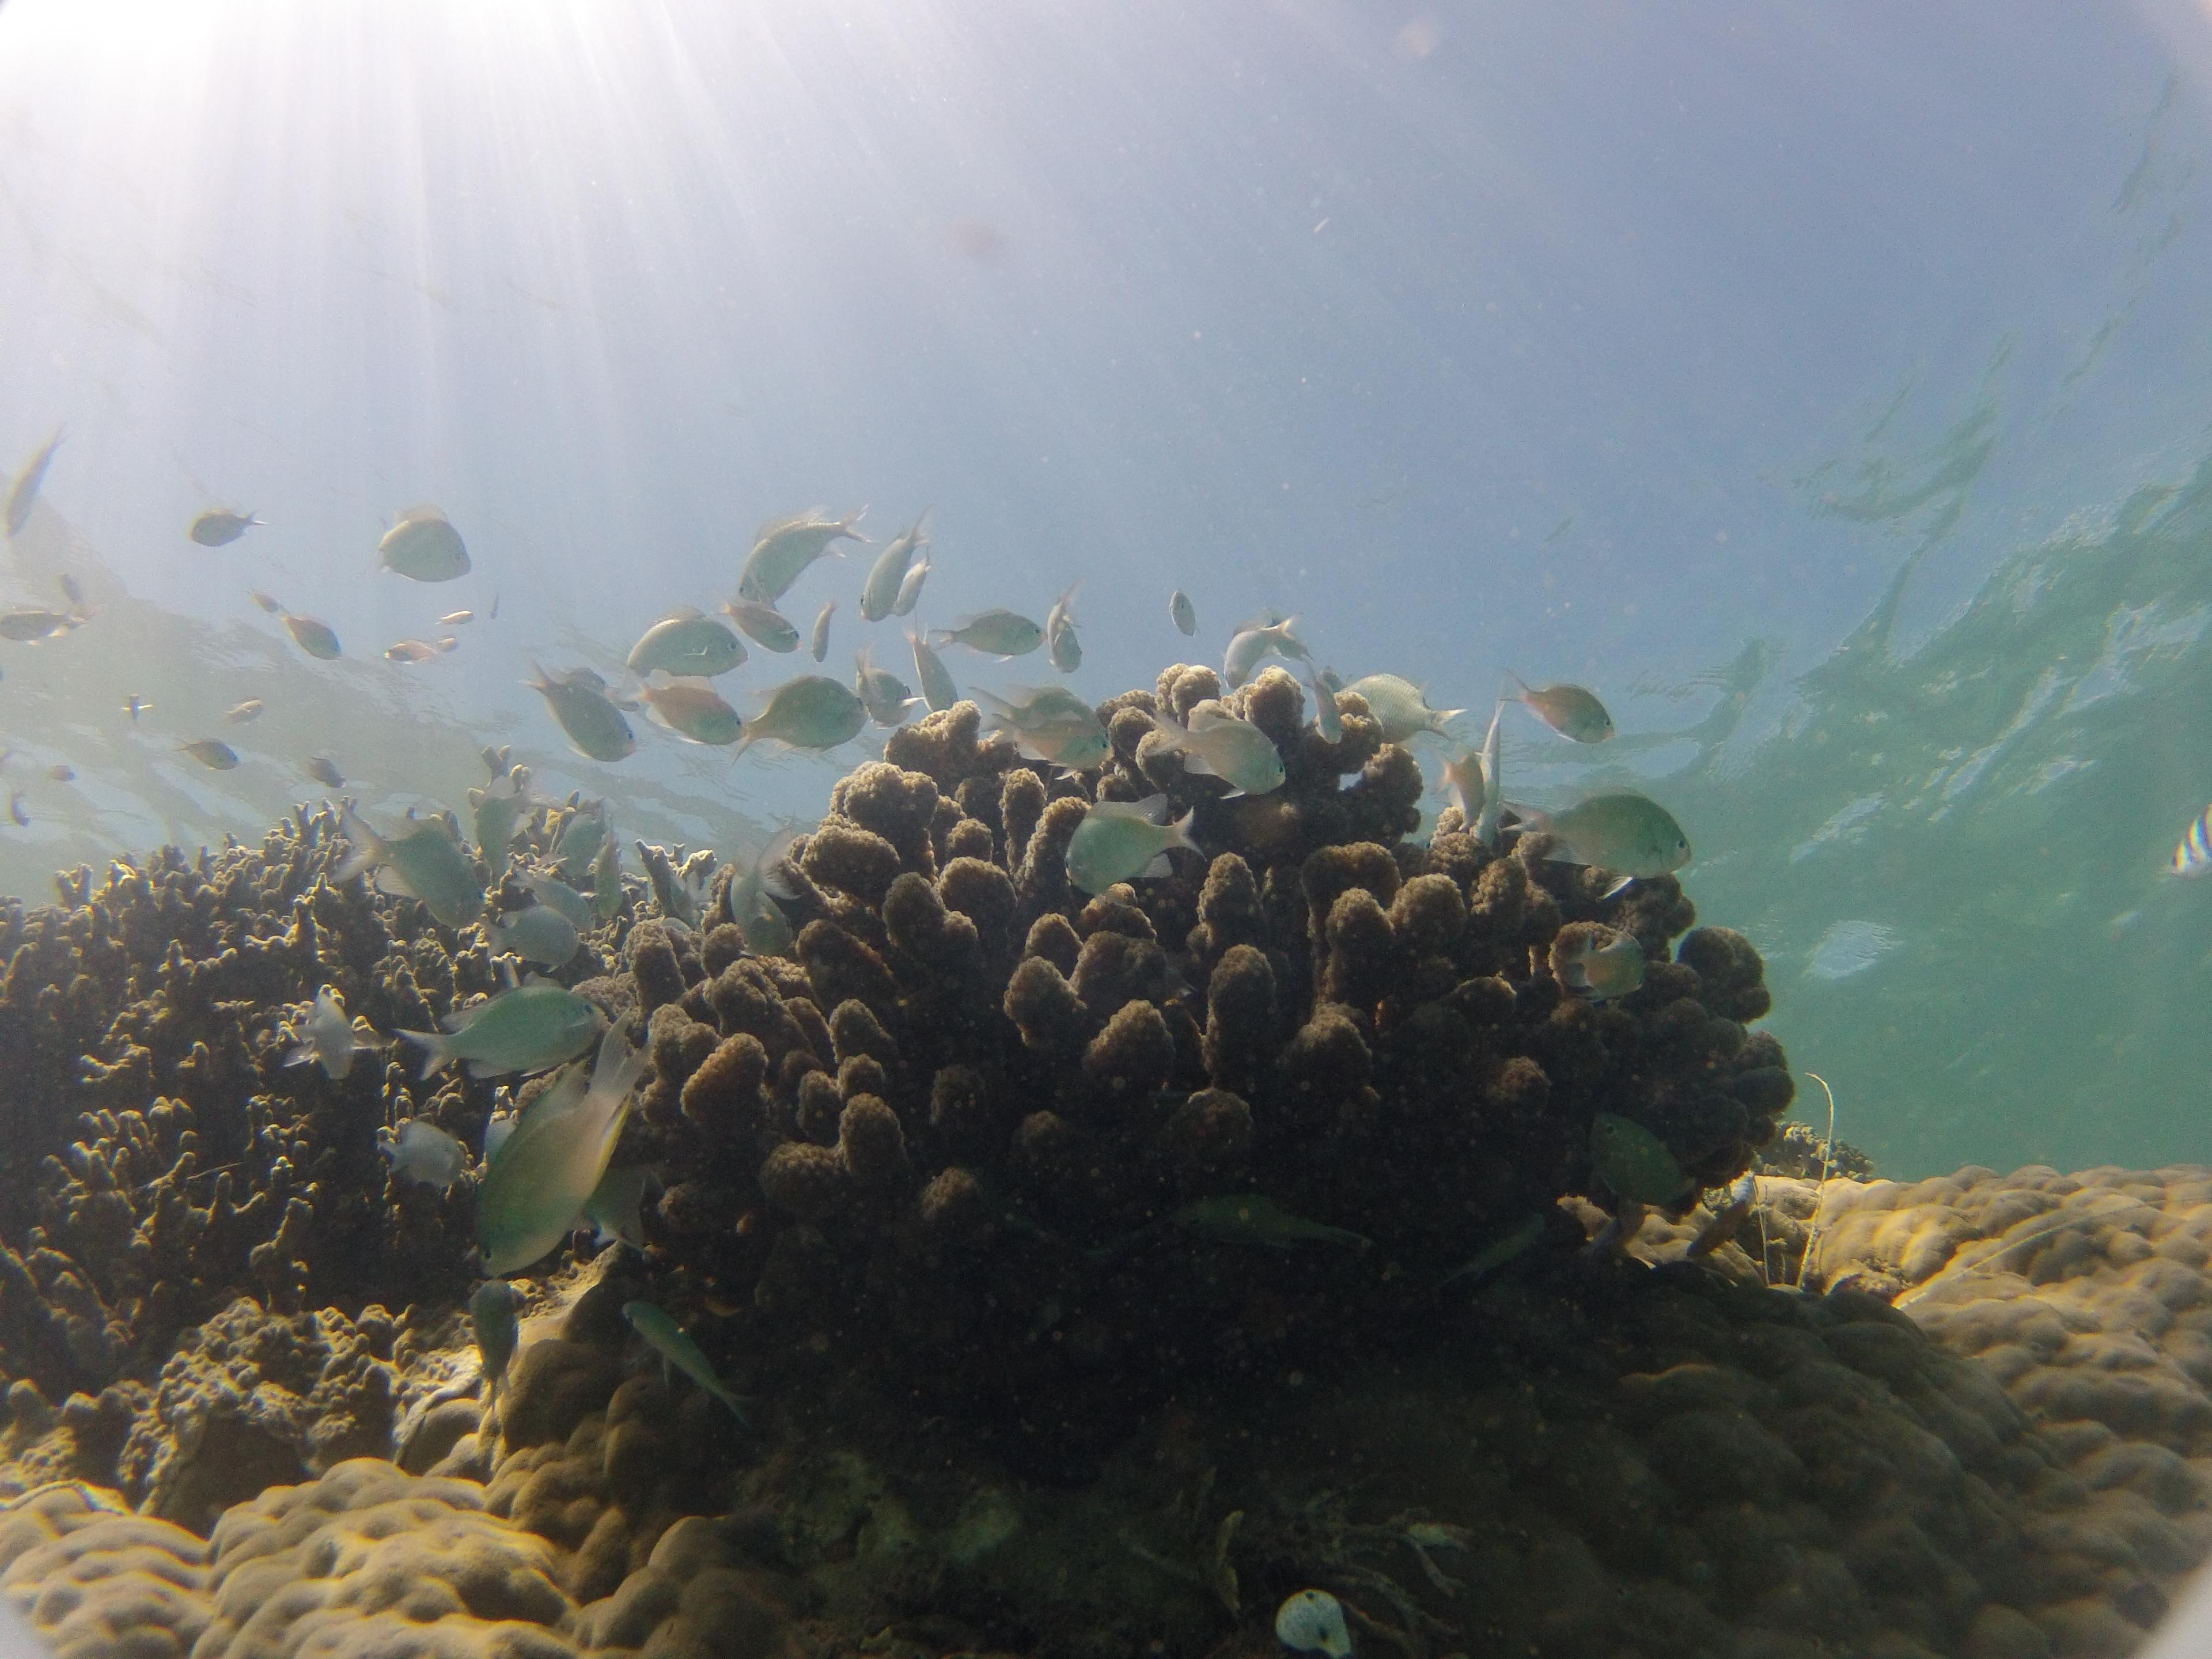Chromis viridis: (387, 1032, 683, 1288), (303, 781, 491, 943), (361, 1270, 578, 1405), (1493, 779, 1709, 906), (380, 971, 636, 1077), (228, 957, 395, 1105), (1026, 779, 1202, 917), (1132, 678, 1303, 819), (613, 1283, 775, 1431), (948, 666, 1134, 791), (505, 643, 651, 802), (352, 481, 507, 620), (1486, 648, 1635, 770), (728, 671, 881, 788), (721, 504, 866, 626), (608, 612, 761, 704), (141, 464, 270, 573), (361, 1098, 481, 1215), (925, 591, 1066, 671), (263, 587, 354, 692), (1141, 570, 1223, 650), (171, 714, 247, 791)
